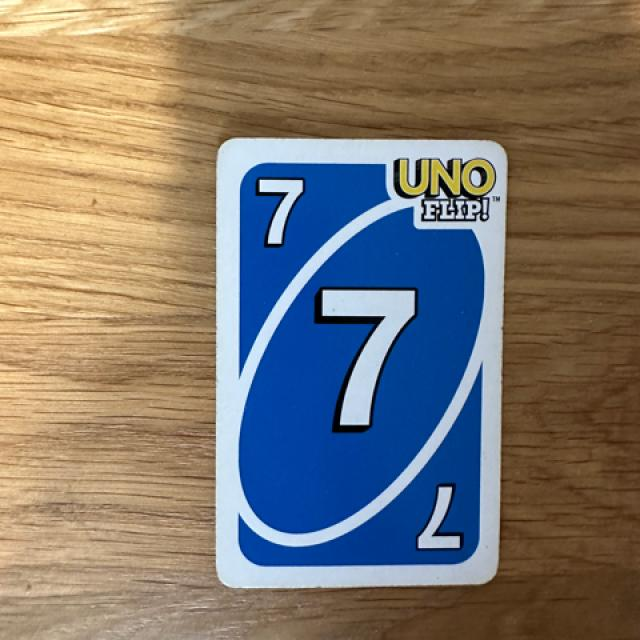lblue-7: (227, 151, 328, 277)
